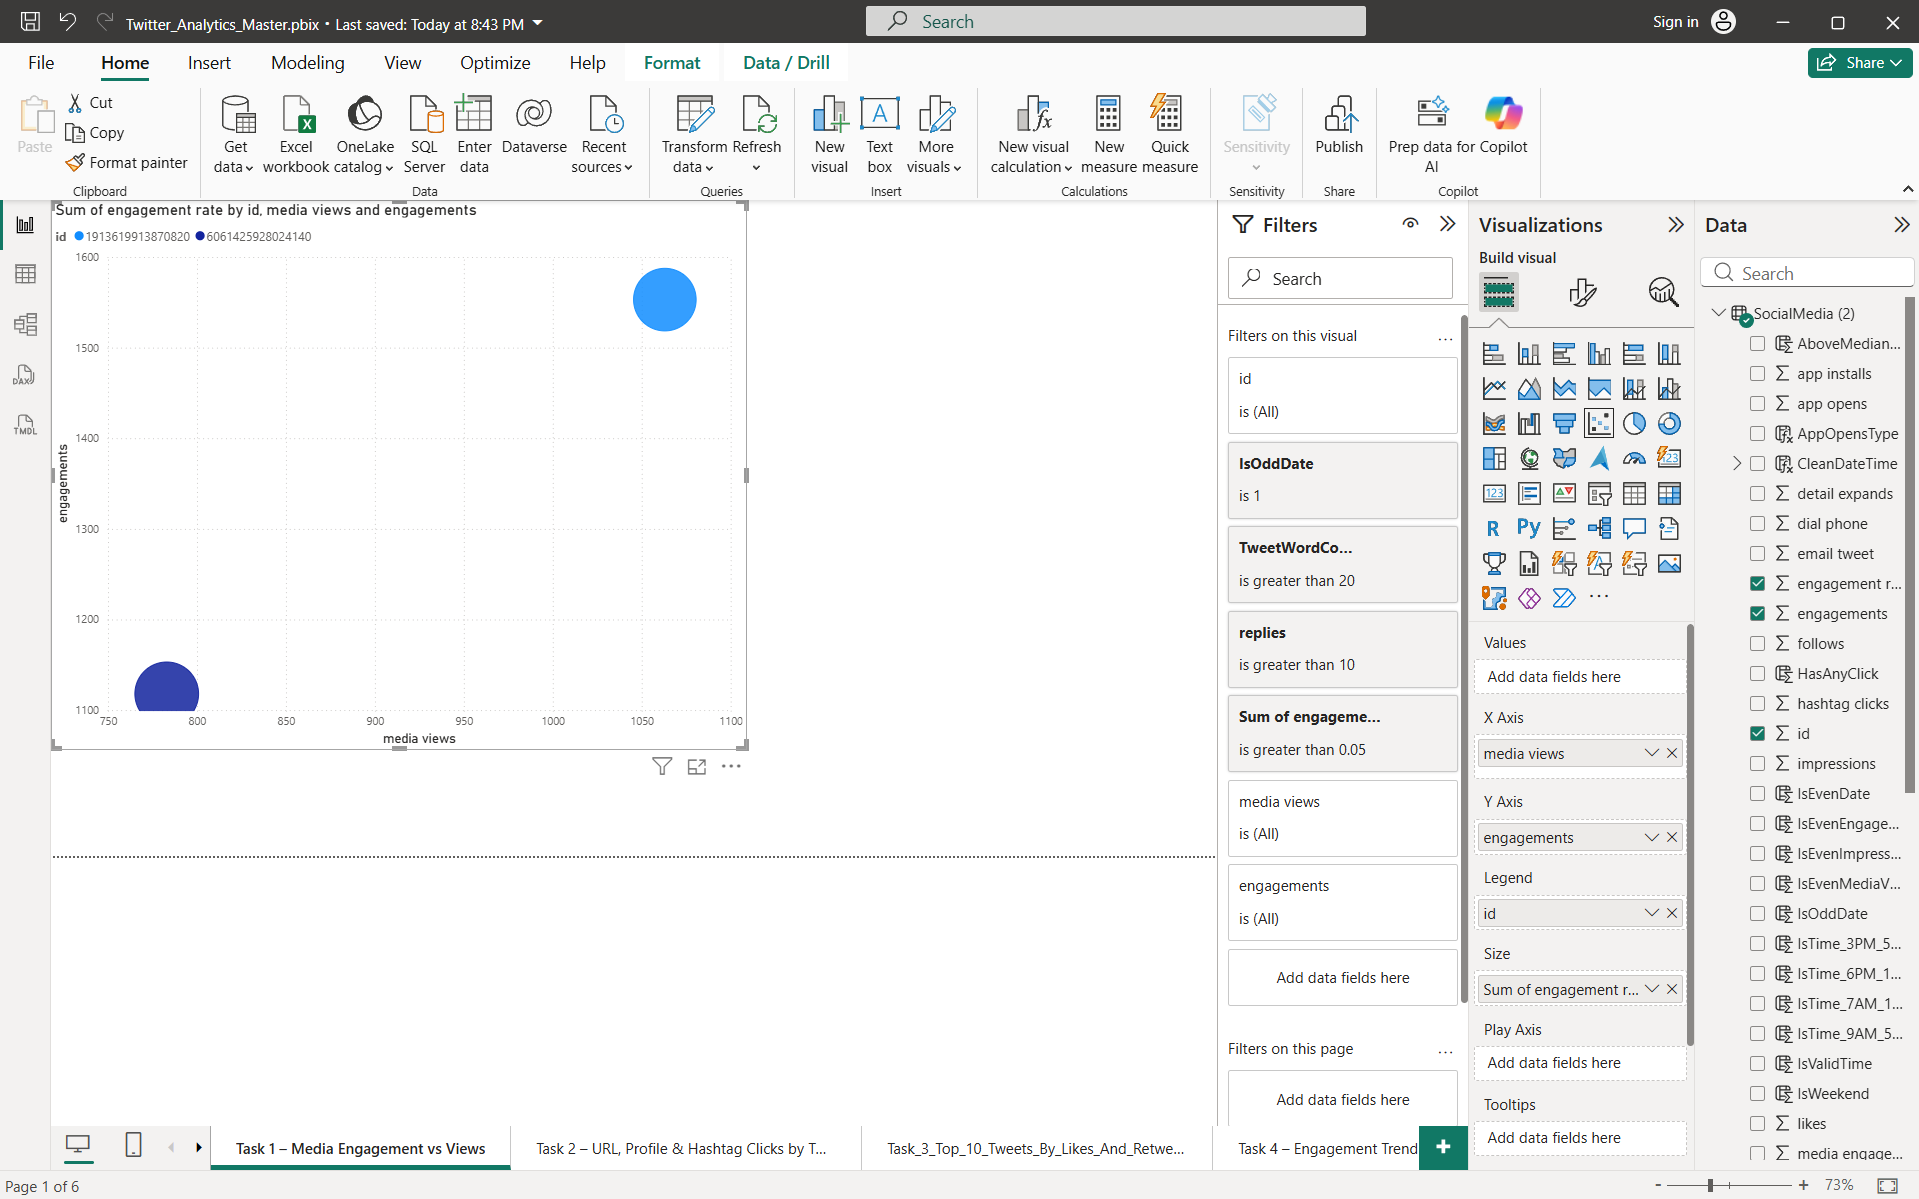

The page's visual inventory and layout, read from the dashboard file:
{"tool":"powerbi","page":{"name":"Task 1 – Media Engagement vs Views","canvas":[1280,720],"ordinal":0},"visuals":[{"type":"scatterChart","fields":{"X":["SocialMedia (2).media views"],"Series":["SocialMedia (2).id"],"Size":["Sum(SocialMedia (2).engagement rate)"],"Y":["SocialMedia (2).engagements"]},"box":[0,0,520.1,428.1],"z":0}]}

Visuals, with their boxes on the page's 1280x720 design canvas (x1, y1, x2, y2). These are canvas units, not pixel positions in the 1919x1199 screenshot, which may show the page scaled, cropped or inside an application window:
scatterChart - SocialMedia (2).media views x SocialMedia (2).id: [0,0,520,428]
